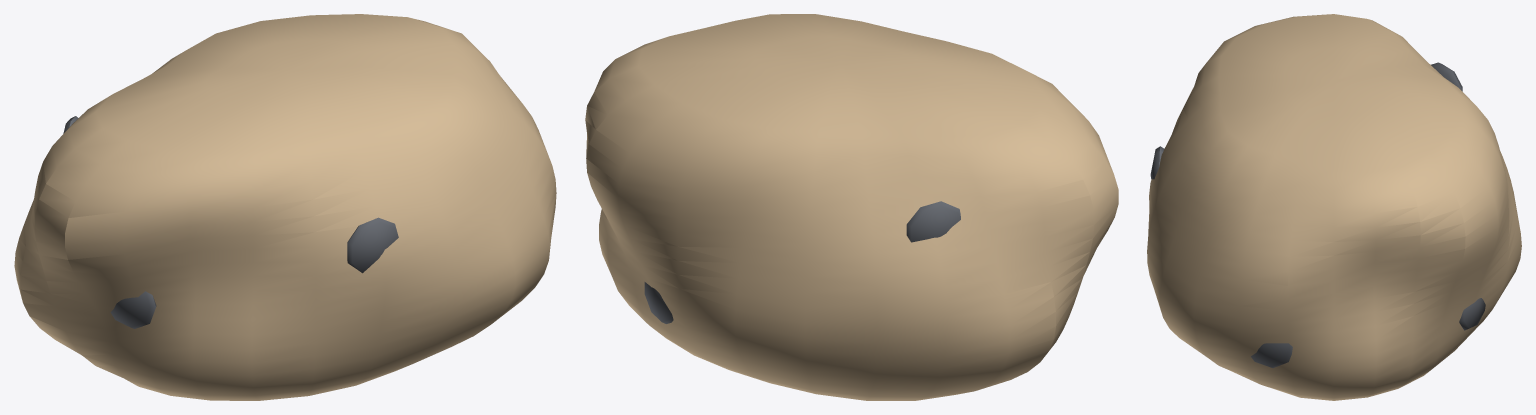
File: fresh-produce-and-groceries-potato-92f48b7f__24350.glb
The picture shows the model from 3 angles, left to right: view 1: azimuth 30°, elevation 25°; view 2: azimuth 150°, elevation 25°; view 3: azimuth 270°, elevation 25°; orthographic projection. The views are drawn at different scales.
Parts seen in each view (by area): view 1: potato; view 2: potato; view 3: potato.
Part boxes in pixels (x1,y1,x2,y2): potato: [14, 14, 556, 400]; potato: [585, 14, 1118, 400]; potato: [1147, 14, 1521, 400].
Size of the model in its own units: 0.091 by 0.05 by 0.0673.
